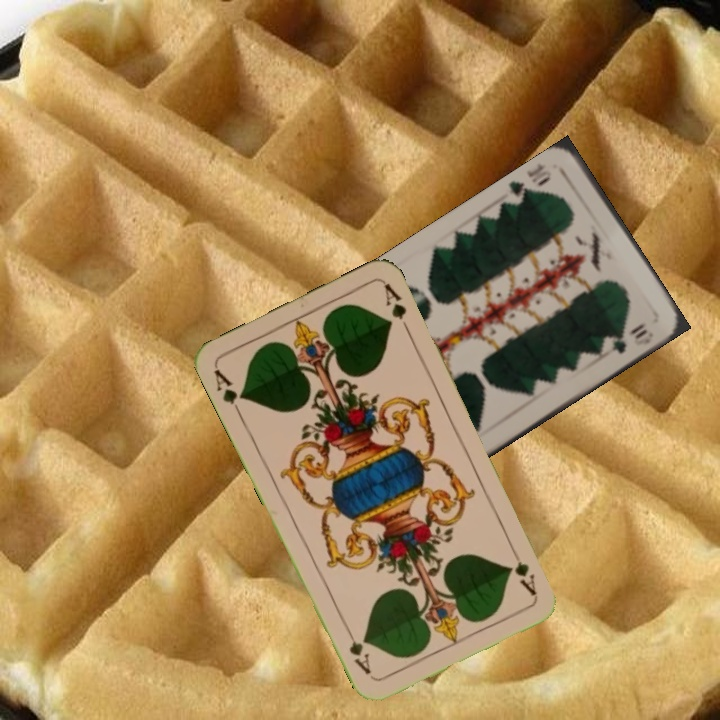G10: (505, 160, 554, 209)
GA: (210, 364, 248, 420), (506, 542, 539, 598)
